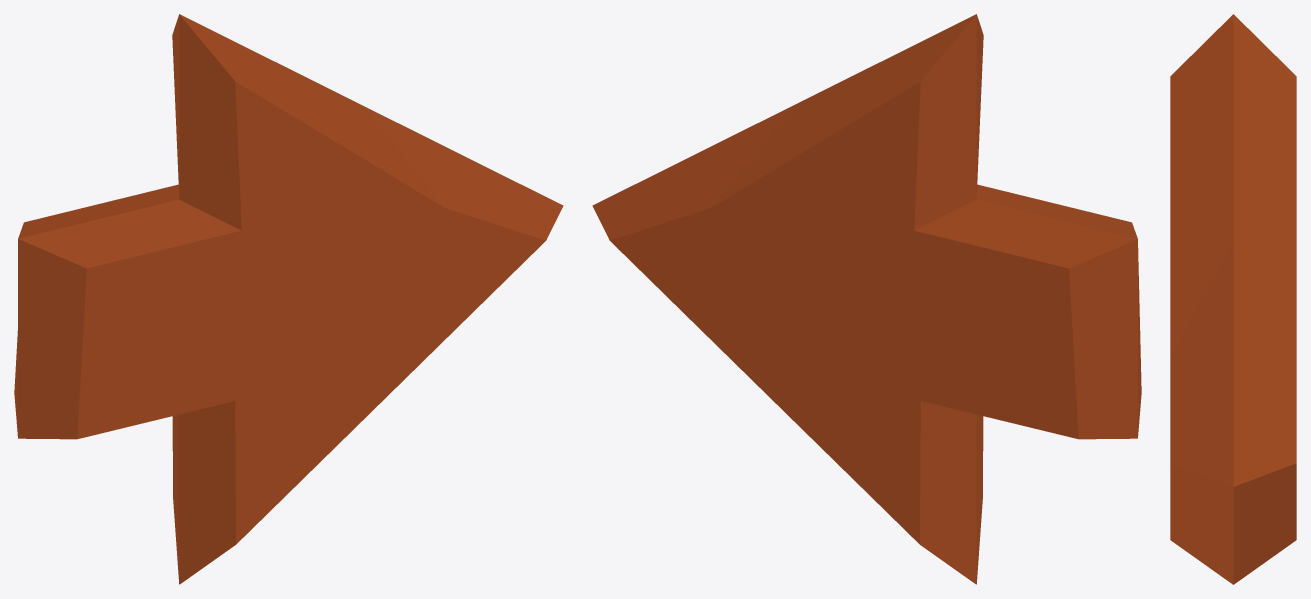
The model's file is arrow.glb.
3 renders of one model, left to right at view 1: azimuth 30°, elevation 25°; view 2: azimuth 150°, elevation 25°; view 3: azimuth 270°, elevation 25°, orthographic.
Parts seen in each view (by area): view 1: SM_Icon_Arrow_03; view 2: SM_Icon_Arrow_03; view 3: SM_Icon_Arrow_03.
Part boxes in pixels (x1,y1,x2,y2): SM_Icon_Arrow_03: (14,14,563,584); SM_Icon_Arrow_03: (592,14,1141,584); SM_Icon_Arrow_03: (1170,14,1296,584).
Bounding box in the file's own units: 0.4 × 0.4 × 0.08.
1 material, 1 textured.
